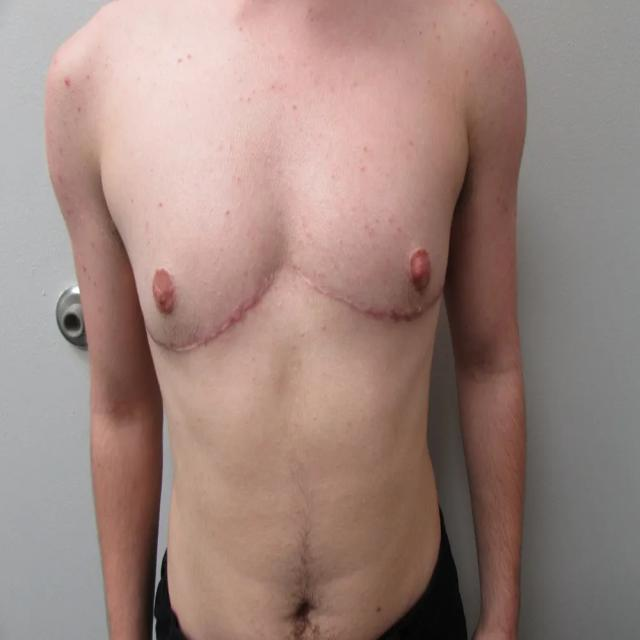Seno herido: (106, 161, 283, 365), (292, 162, 454, 366)
